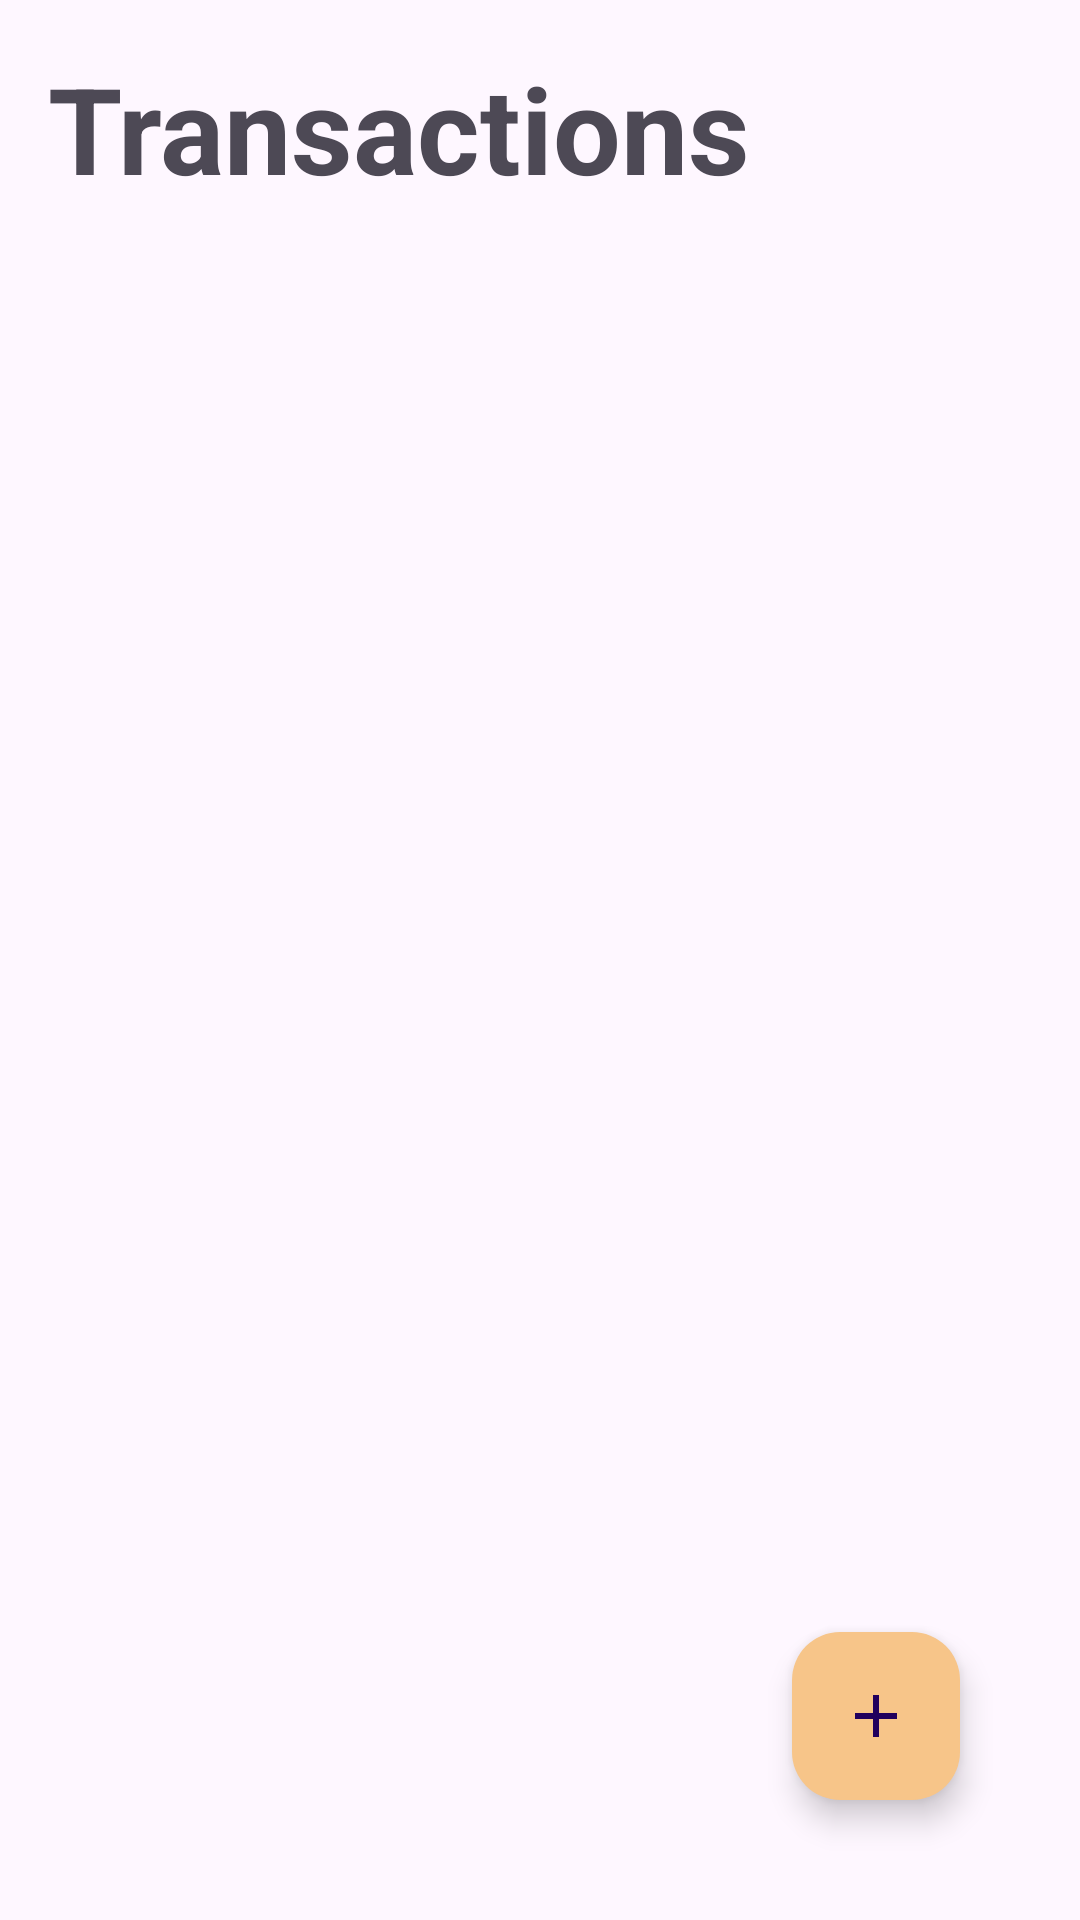

Locate icon controls on the screen. Image size 1080x1920, boxes as (x1, y1, x2, y2).
add: (792, 1632, 960, 1800)
